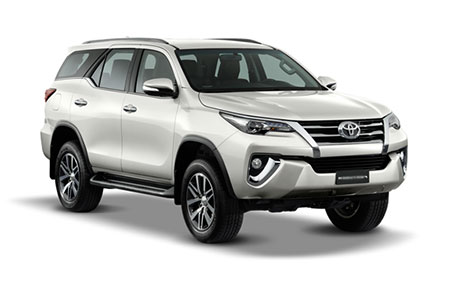pickup: (39, 35, 409, 245)
